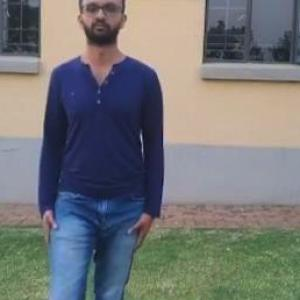follow: (40, 0, 165, 291)
